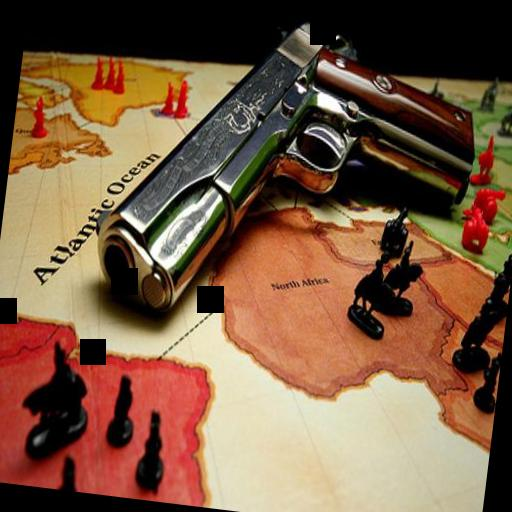Handgun: (87, 0, 485, 353)
